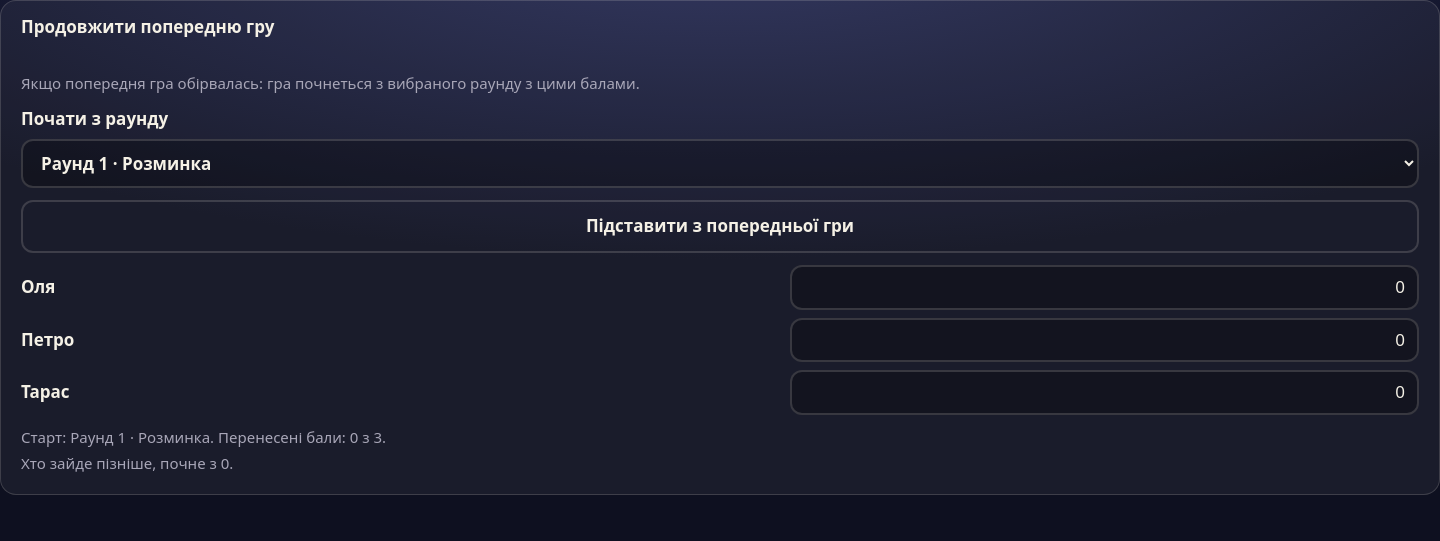
ResumePanel › a bad field says what is allowed
Replace the text in the field labelled "Оля" with "10000000" at (1104, 287), box [790,265,1419,310]
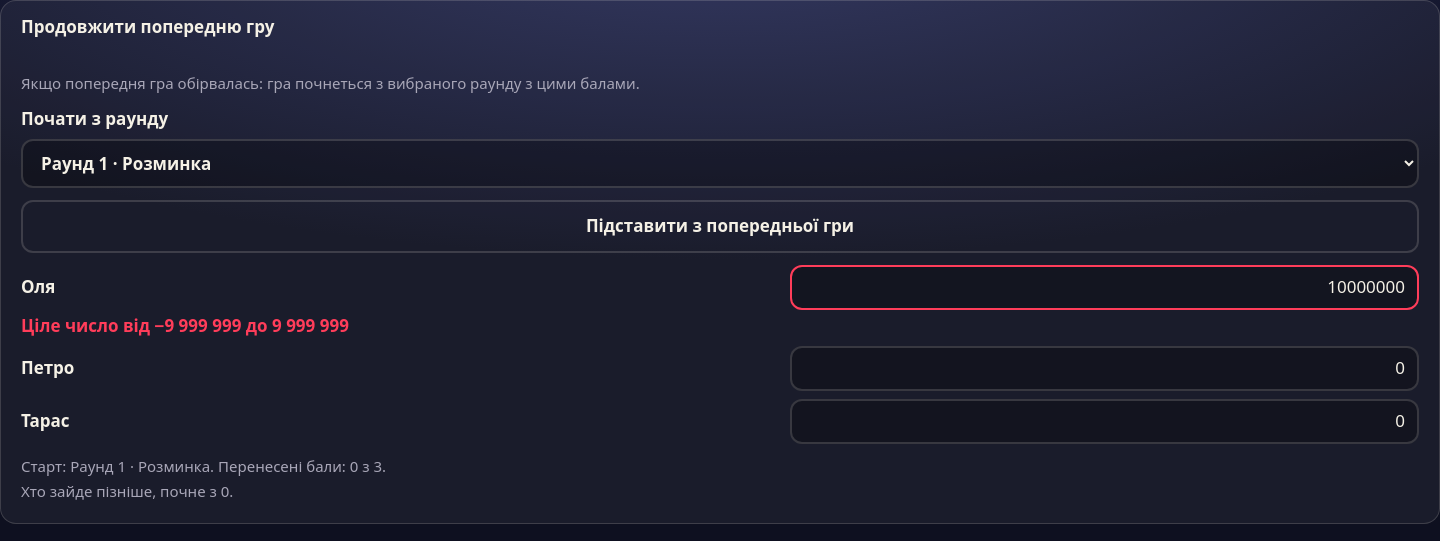
Expected: the text "Ціле число від −9 999 999 до 9 999 999" is shown, [21,314,349,337]
